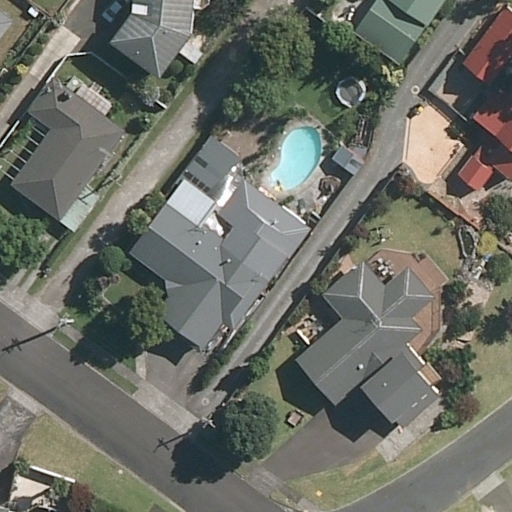DT: (53, 310, 78, 335), (200, 409, 217, 434)
